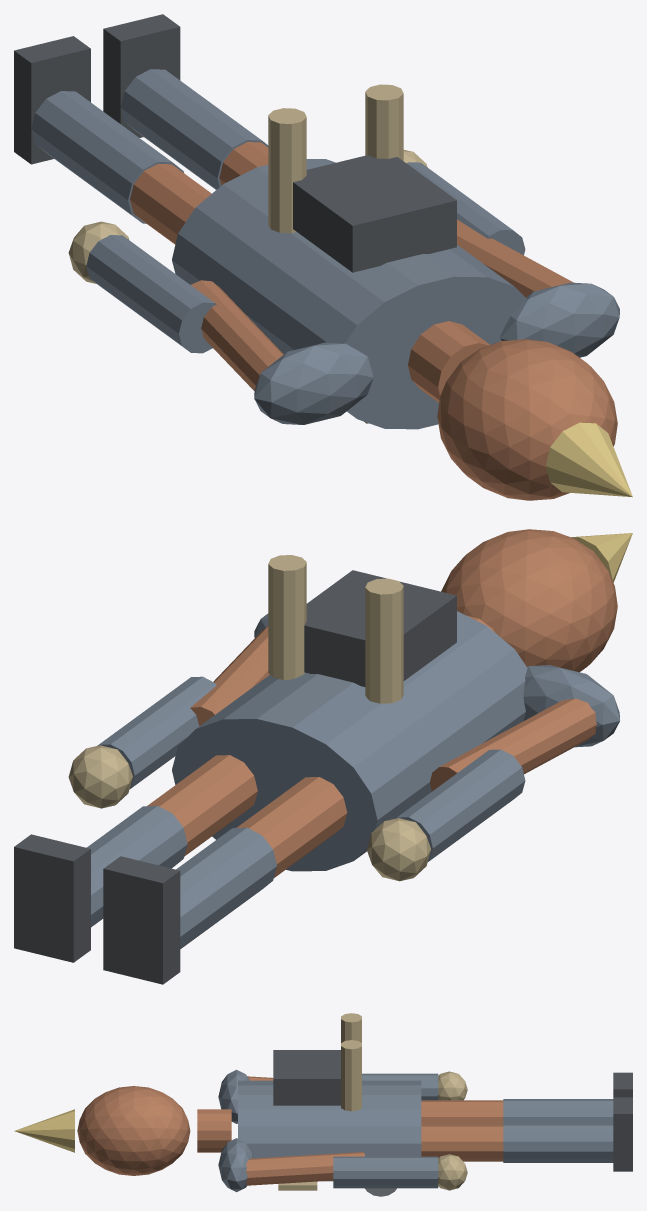
The model's file is SWN-029_yara_brightrip.glb.
3 views of the same model, one above another, from view 1: azimuth 30°, elevation 25°; view 2: azimuth 150°, elevation 25°; view 3: azimuth 270°, elevation 25° (orthographic). The views are drawn at different scales.
Parts seen in each view (by area): view 1: body_spine, head, back_thruster_pack, greave_-1, greave_1, shoulder_plate_-1, forearm_gauntlet_-1, shoulder_plate_1, boot_-1, boot_1, ember_hair_flame, upper_arm_-1 (+8 smaller); view 2: body_spine, head, back_thruster_pack, boot_-1, boot_1, greave_-1, forearm_gauntlet_-1, thigh_1, thigh_-1, upper_arm_-1, forearm_gauntlet_1, greave_1 (+7 smaller); view 3: body_spine, head, greave_1, back_thruster_pack, forearm_gauntlet_1, thigh_1, greave_-1, upper_arm_1, thigh_-1, boot_1, aether_thruster_1, neck (+9 smaller).
Boxes of the visible parts, <box> form: body_spine: <box>172,159,527,429</box>; head: <box>437,339,617,500</box>; back_thruster_pack: <box>293,155,456,272</box>; greave_-1: <box>31,91,183,223</box>; greave_1: <box>120,69,268,189</box>; shoulder_plate_-1: <box>254,342,373,424</box>; forearm_gauntlet_-1: <box>86,235,216,353</box>; shoulder_plate_1: <box>500,282,619,357</box>; boot_-1: <box>14,36,90,164</box>; boot_1: <box>103,14,180,137</box>; ember_hair_flame: <box>545,422,632,497</box>; upper_arm_-1: <box>191,280,283,390</box>; body_spine: <box>172,611,527,871</box>; head: <box>441,529,617,672</box>; back_thruster_pack: <box>304,570,456,686</box>; boot_-1: <box>103,856,180,984</box>; boot_1: <box>14,834,90,962</box>; greave_-1: <box>176,827,276,948</box>; forearm_gauntlet_-1: <box>396,749,525,861</box>; thigh_1: <box>147,755,257,856</box>; thigh_-1: <box>236,777,347,877</box>; upper_arm_-1: <box>429,698,596,791</box>; forearm_gauntlet_1: <box>97,676,216,788</box>; greave_1: <box>86,806,187,927</box>; body_spine: <box>238,1080,421,1181</box>; head: <box>77,1086,190,1175</box>; greave_1: <box>503,1124,613,1162</box>; back_thruster_pack: <box>273,1050,340,1105</box>; forearm_gauntlet_1: <box>333,1156,438,1188</box>; thigh_1: <box>421,1125,503,1161</box>; greave_-1: <box>503,1099,613,1123</box>; upper_arm_1: <box>246,1152,364,1185</box>; thigh_-1: <box>421,1100,503,1124</box>; boot_1: <box>613,1097,632,1171</box>; aether_thruster_1: <box>341,1040,361,1111</box>; neck: <box>197,1109,231,1152</box>.
Size of the model in its own units: 0.982 by 0.6775 by 2.53.
